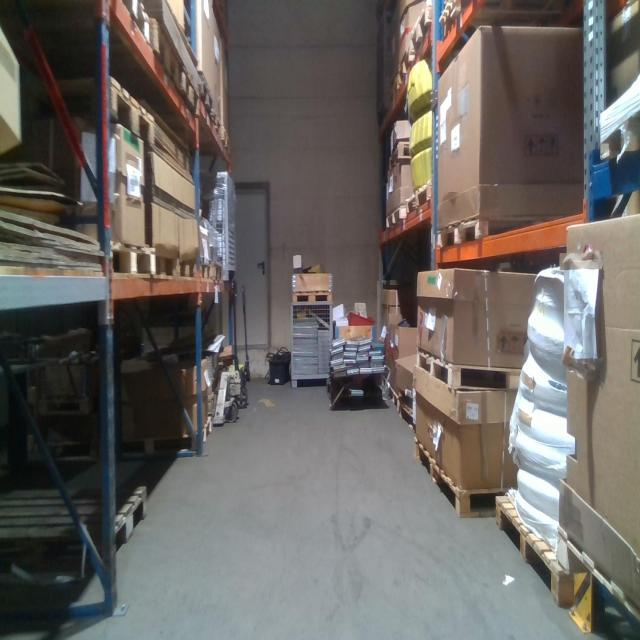pallet: (0, 478, 150, 565), (493, 492, 587, 605), (552, 517, 639, 637), (413, 435, 527, 517), (36, 74, 155, 150), (429, 212, 569, 249), (415, 347, 527, 391), (120, 412, 213, 459), (145, 13, 179, 91), (18, 432, 98, 464), (20, 388, 101, 417), (109, 1, 152, 50), (108, 239, 154, 281), (409, 2, 434, 60), (437, 2, 475, 35), (405, 179, 434, 218), (174, 248, 198, 288), (147, 247, 174, 282), (180, 66, 198, 115), (387, 142, 413, 174), (198, 69, 212, 122), (384, 203, 406, 234), (396, 48, 409, 97), (292, 290, 330, 305), (196, 252, 211, 289), (209, 259, 223, 286), (213, 114, 221, 141), (224, 126, 230, 156)
pallet_truck: (200, 262, 247, 434), (239, 275, 251, 421)
stillage: (290, 298, 337, 392)
